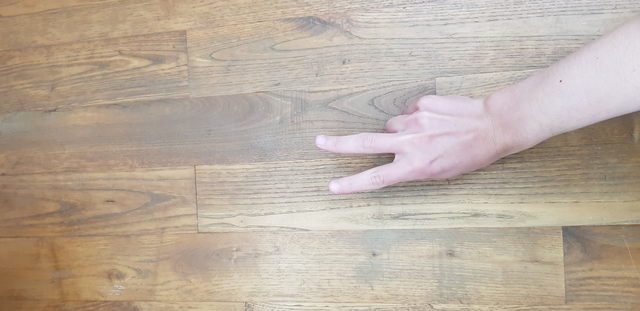Scissors: (298, 83, 528, 211)
